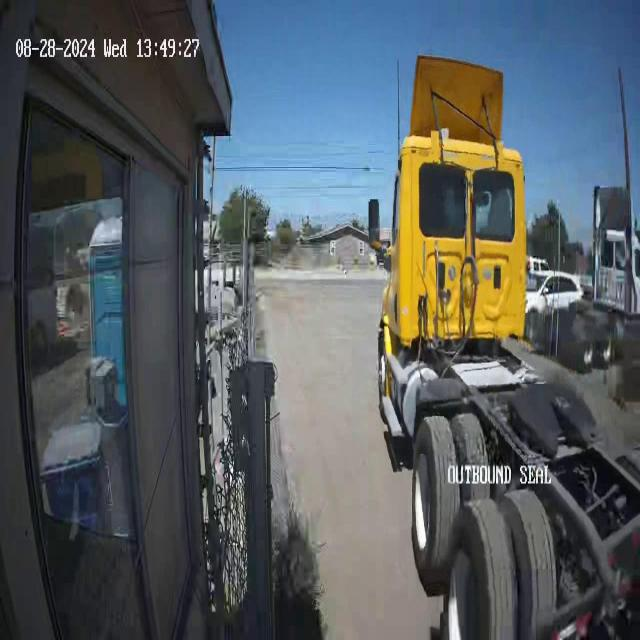TRUCK_OUT: (373, 52, 639, 638)
